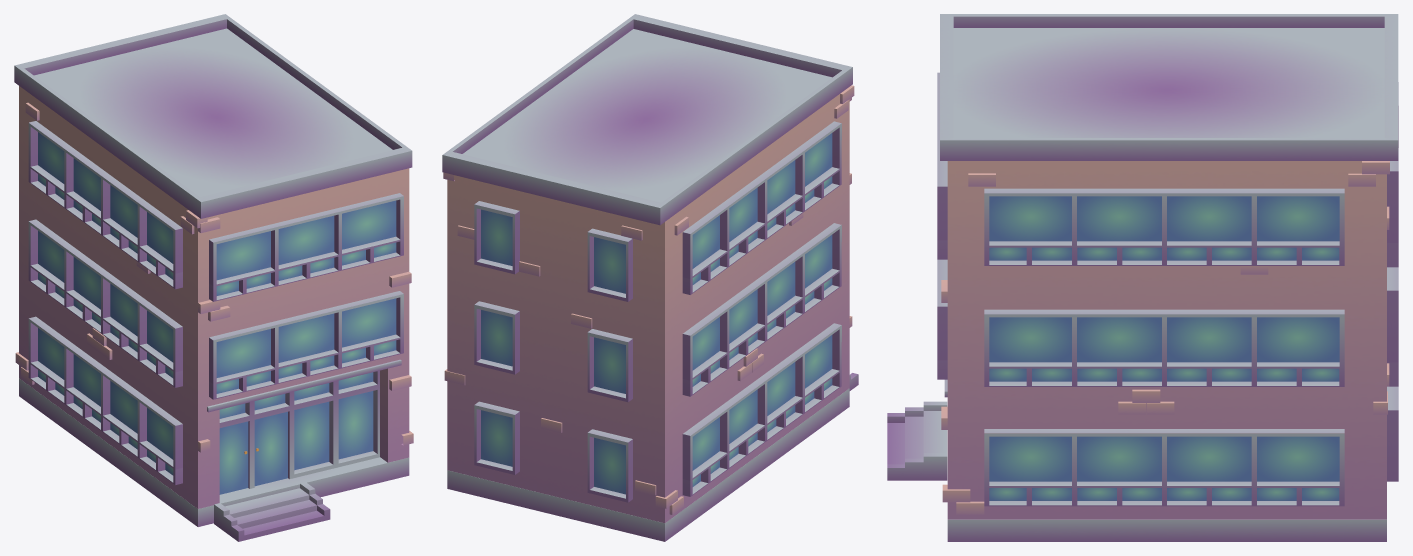
Rendered from SM_3F_L_Windowed_04.fbx.
The picture shows the model from 3 angles, left to right: view 1: azimuth 30°, elevation 25°; view 2: azimuth 150°, elevation 25°; view 3: azimuth 270°, elevation 25°; orthographic projection. The views are drawn at different scales.
Visible parts, largest first — view 1: SM_3F_L_Windowed_04; view 2: SM_3F_L_Windowed_04; view 3: SM_3F_L_Windowed_04.
Boxes of the visible parts, box(x1,y1,x2,y2) form: SM_3F_L_Windowed_04: box(14, 14, 413, 541); SM_3F_L_Windowed_04: box(442, 14, 858, 541); SM_3F_L_Windowed_04: box(887, 14, 1398, 541).
Bounding box in the file's own units: 7.96 × 12.7 × 11.02.
